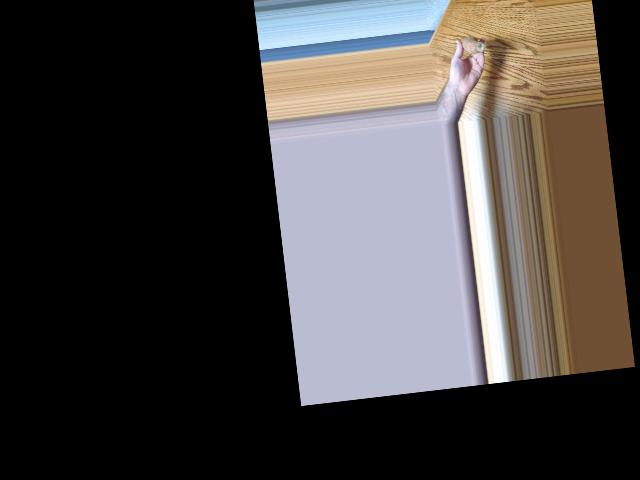sweet_potato: (457, 27, 485, 55)
